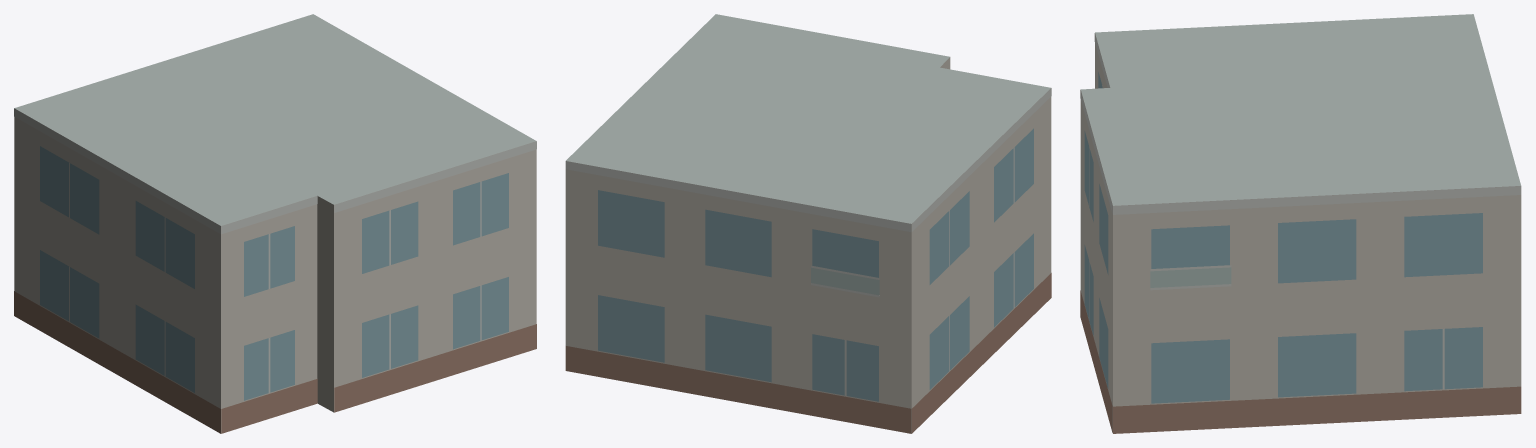
The model's file is survey-upis-32717562.glb.
3 renders of one model, left to right at view 1: azimuth 30°, elevation 25°; view 2: azimuth 150°, elevation 25°; view 3: azimuth 270°, elevation 25°, orthographic. The views are drawn at different scales.
Visible parts, largest first — view 1: survey-upis-32717562.tmp; view 2: survey-upis-32717562.tmp; view 3: survey-upis-32717562.tmp.
Part boxes in pixels (<box>): survey-upis-32717562.tmp: <box>14,14,536,433</box>; survey-upis-32717562.tmp: <box>565,14,1051,433</box>; survey-upis-32717562.tmp: <box>1080,14,1521,433</box>.
Size of the model in its own units: 11.02 by 6.1 by 10.69.
